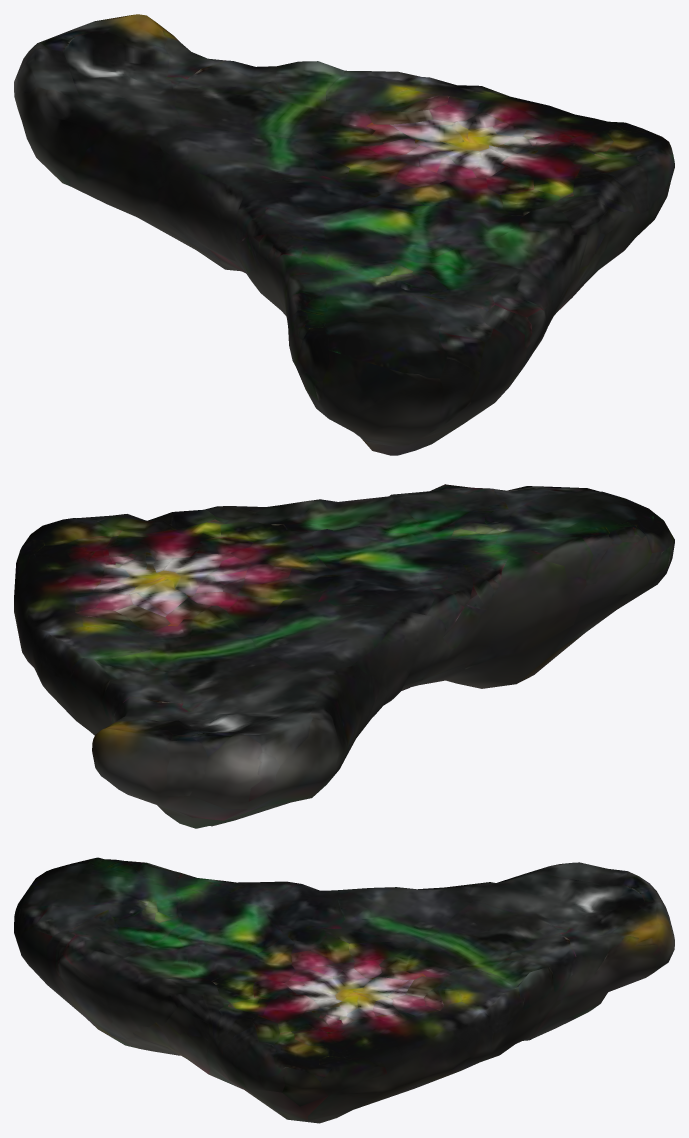
Rendered from hall.glb.
3 views of the same model, one above another, from view 1: azimuth 30°, elevation 25°; view 2: azimuth 150°, elevation 25°; view 3: azimuth 270°, elevation 25° (orthographic). The views are drawn at different scales.
Size of the model in its own units: 0.3808 by 0.1341 by 0.5427.
Materials: 1 (1 with a texture image).
